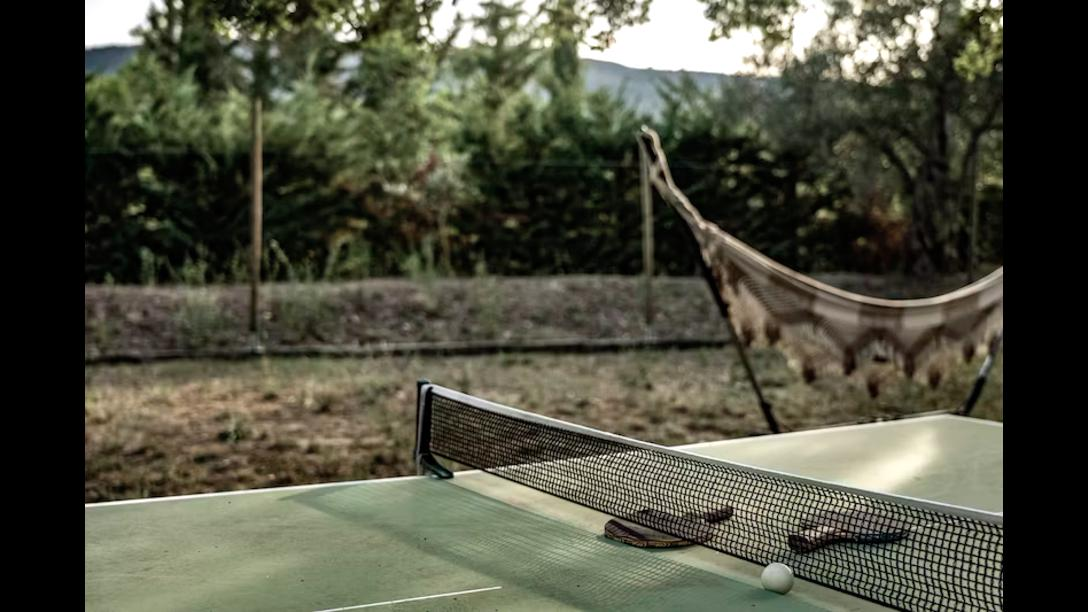Table-Tennis-Ball: (762, 564, 794, 594)
